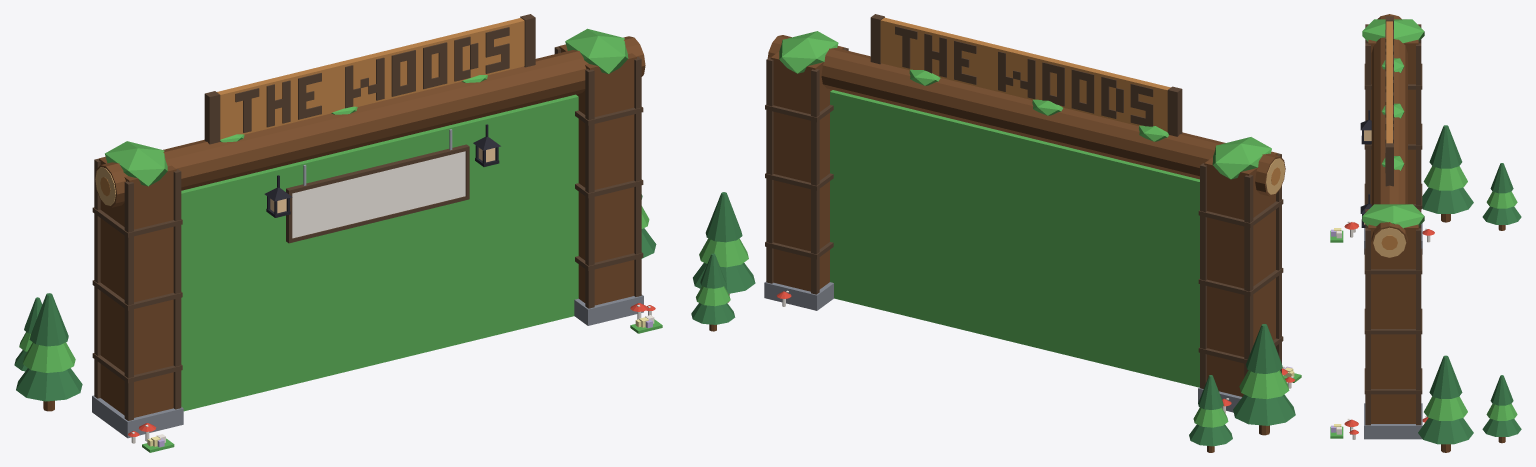
Rendered from CatCafe_Woods_Gate.glb.
The picture shows the model from 3 angles, left to right: view 1: azimuth 30°, elevation 25°; view 2: azimuth 150°, elevation 25°; view 3: azimuth 270°, elevation 25°; orthographic projection. The views are drawn at different scales.
Parts seen in each view (by area): view 1: CatCafe_Woods_Gate, CatCafe_Woods_Gate_Bars, CatCafe_Woods_Gate_SignBoard, CatCafe_Woods_Gate_Flowers; view 2: CatCafe_Woods_Gate_Bars, CatCafe_Woods_Gate; view 3: CatCafe_Woods_Gate, CatCafe_Woods_Gate_Flowers.
Part boxes in pixels (x1=…): CatCafe_Woods_Gate: x1=14, y1=14, x2=656, y2=443; CatCafe_Woods_Gate_Bars: x1=181, y1=94, x2=578, y2=411; CatCafe_Woods_Gate_SignBoard: x1=292, y1=151, x2=465, y2=238; CatCafe_Woods_Gate_Flowers: x1=142, y1=315, x2=662, y2=452; CatCafe_Woods_Gate_Bars: x1=830, y1=90, x2=1199, y2=387; CatCafe_Woods_Gate: x1=691, y1=14, x2=1295, y2=452; CatCafe_Woods_Gate: x1=1344, y1=14, x2=1521, y2=452; CatCafe_Woods_Gate_Flowers: x1=1330, y1=228, x2=1343, y2=438.
Size of the model in its own units: 36.23 by 16.95 by 11.59.
1 material, 1 textured.
